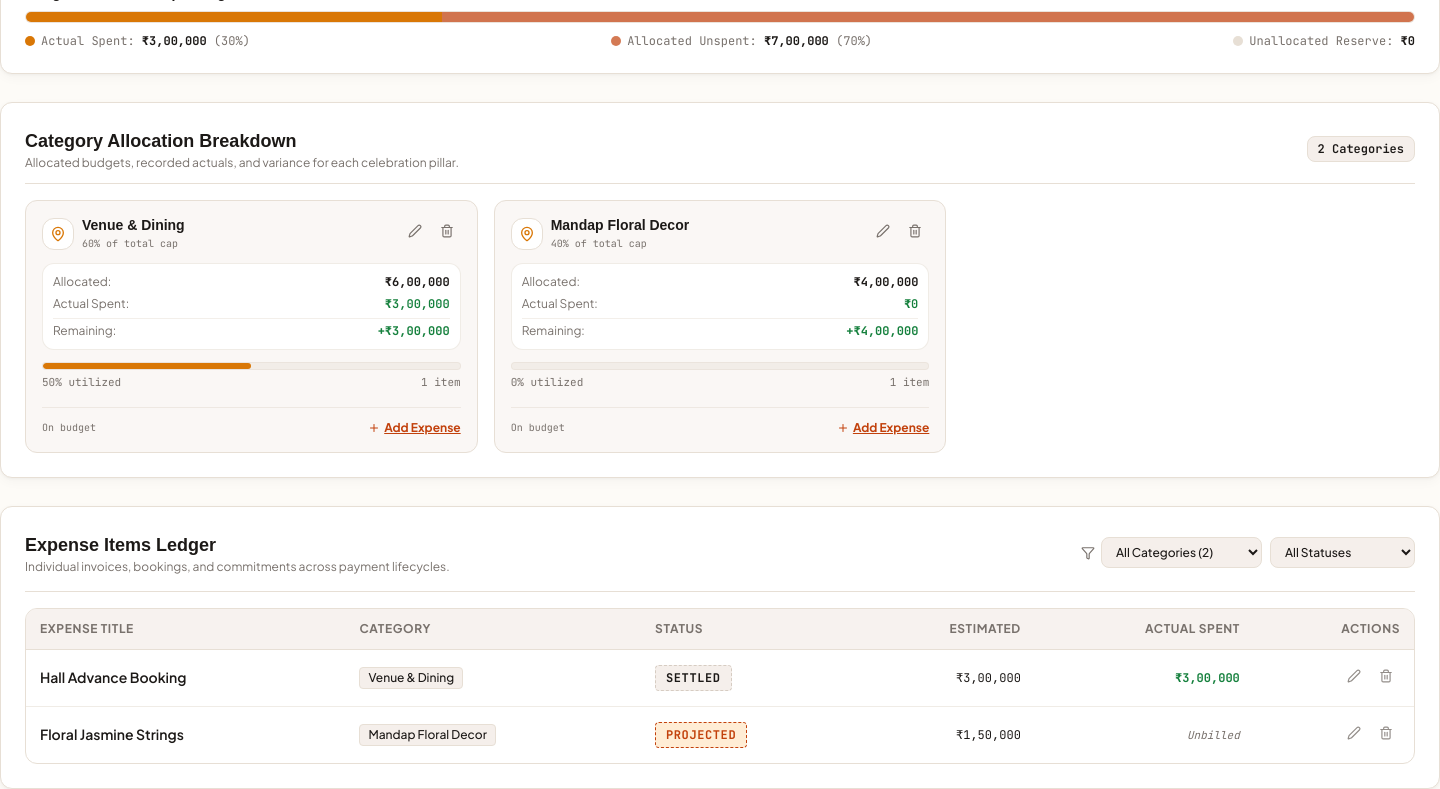
it: BudgetLedgerTab Component › filters expenses by payment status
(page scrolled)
Select "Settled Only" in the dropdown named "Filter by payment status". click: [1342, 552]
box: [1270,537,1415,568]
(page scrolled)
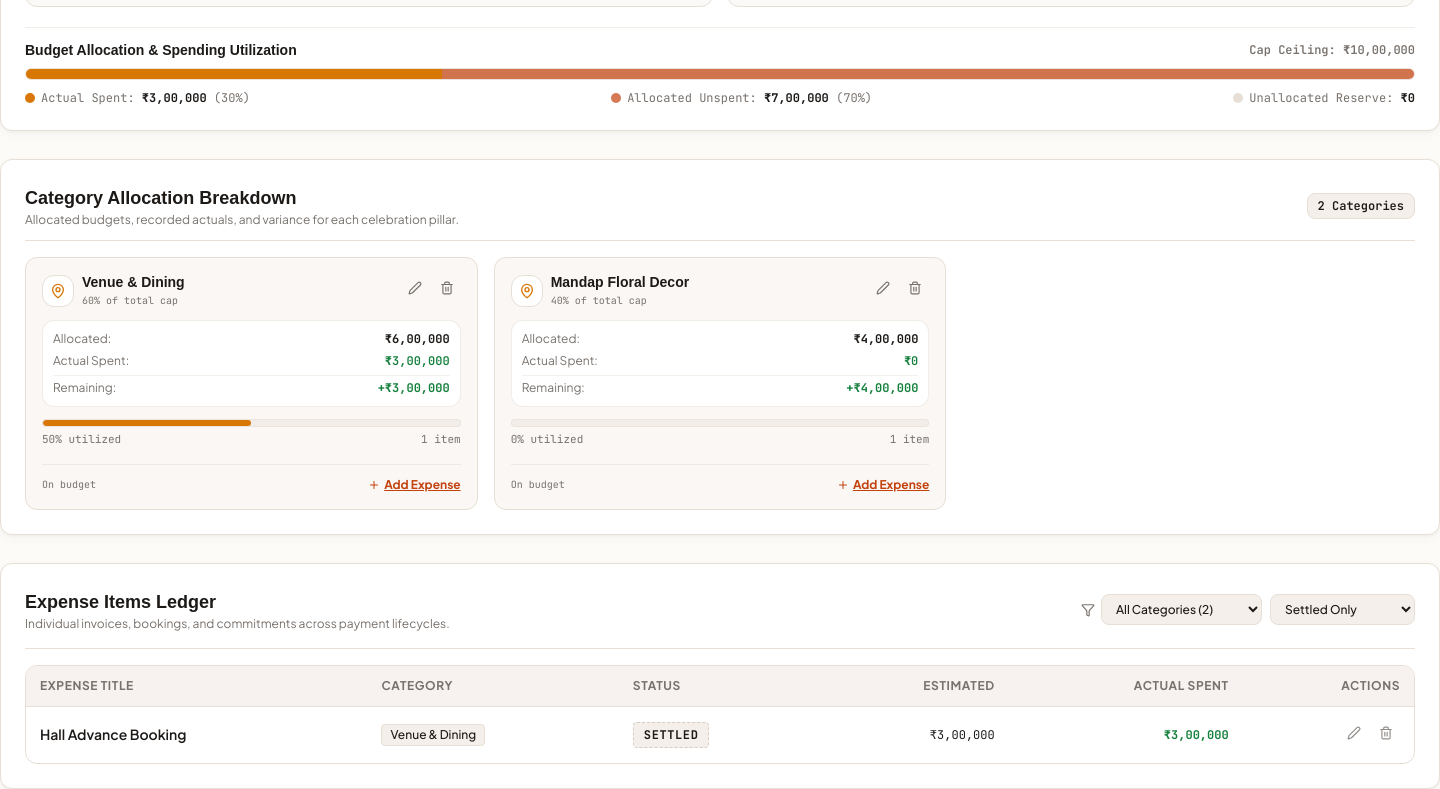
Expected: the text "Hall Advance Booking" is shown, [40,725,186,743]
Expected: the text "Floral Jasmine Strings" is gone
